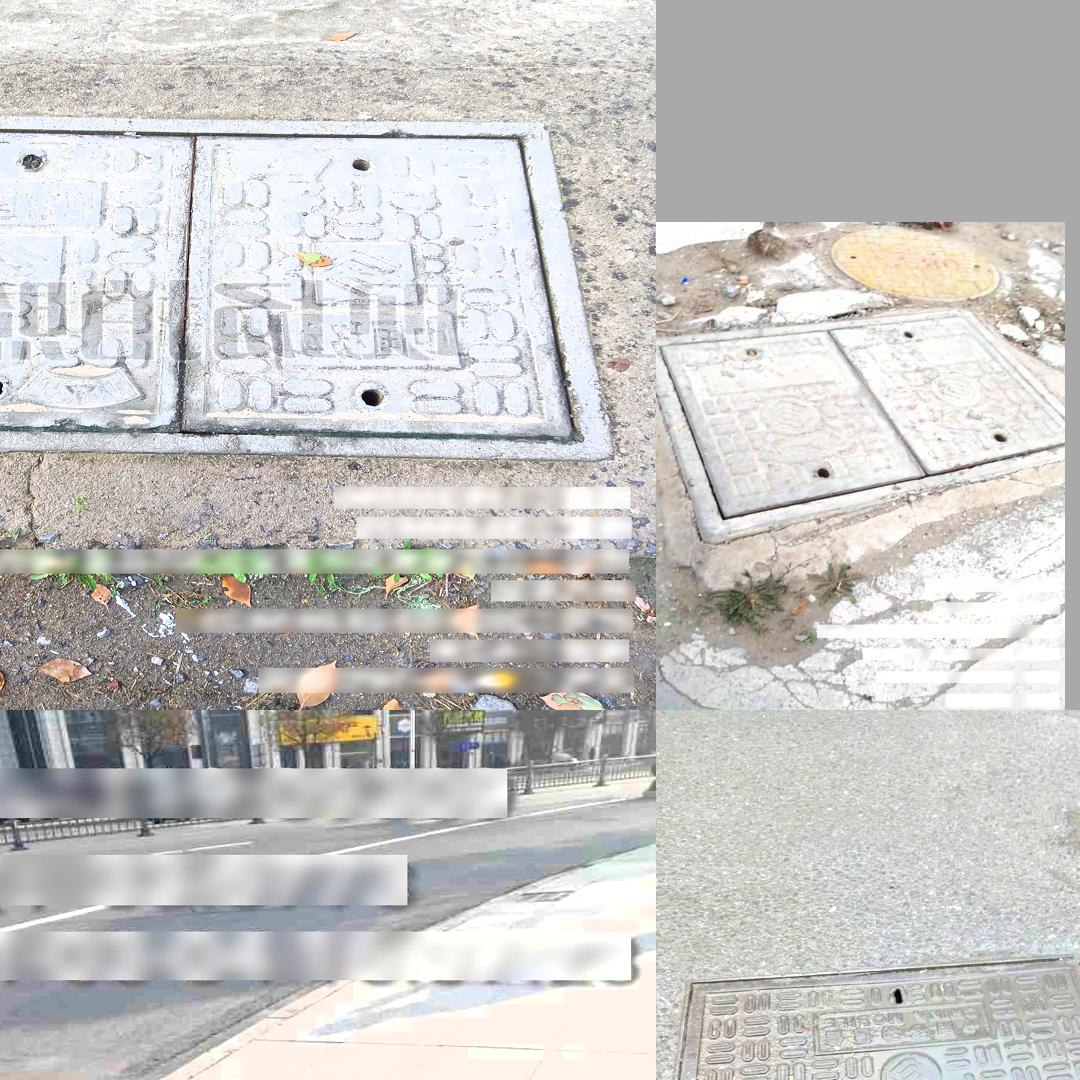good: (0, 113, 614, 460), (656, 307, 1064, 542), (670, 974, 1080, 1080), (829, 226, 1000, 301)
